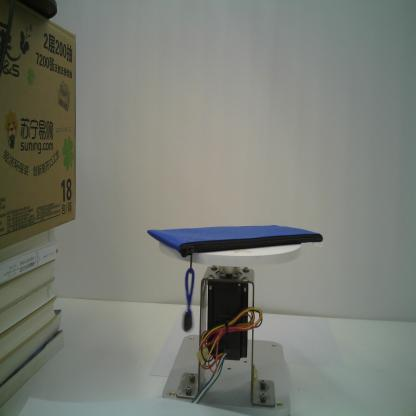Stationery: (147, 224, 323, 334)
